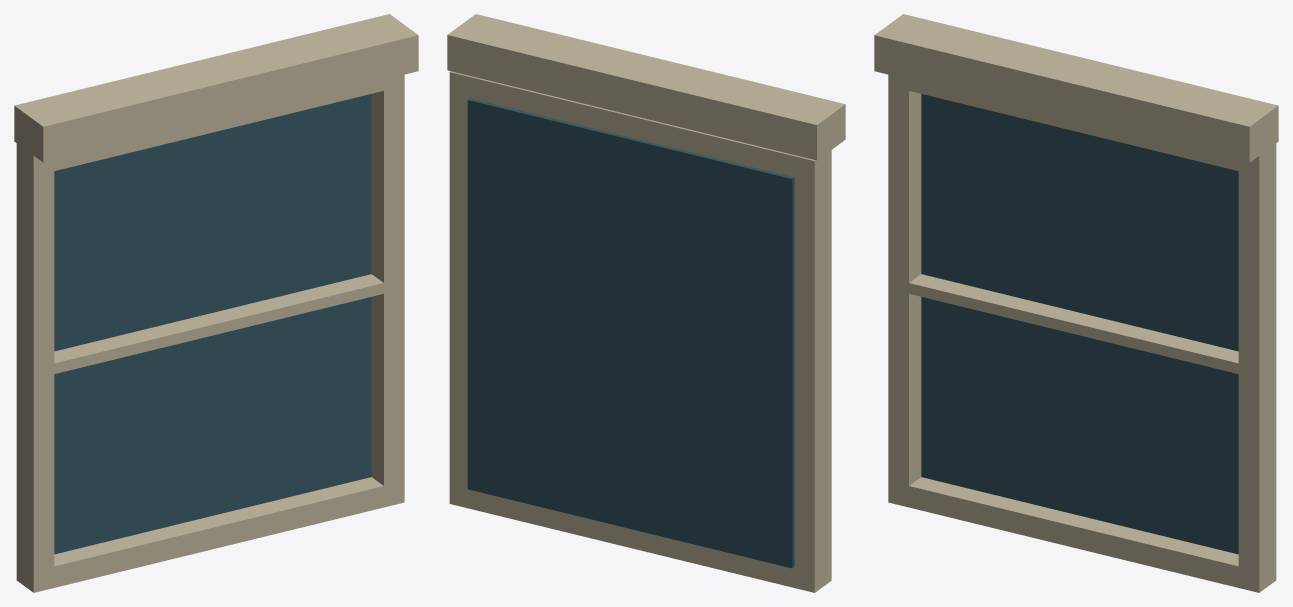
The model's file is window_30.glb.
3 renders of one model, left to right at view 1: azimuth 30°, elevation 25°; view 2: azimuth 150°, elevation 25°; view 3: azimuth 330°, elevation 25°, orthographic.
Visible parts, largest first — view 1: window_30; view 2: window_30; view 3: window_30.
Boxes of the visible parts, x1,y1,x2,y2 form: window_30: (14, 14, 418, 592); window_30: (447, 14, 845, 592); window_30: (874, 14, 1278, 592).
Size of the model in its own units: 1.64 by 1.99 by 0.2375.
